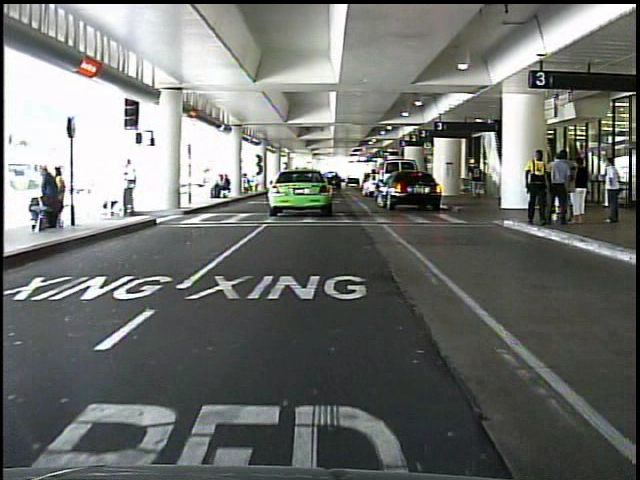person: (517, 147, 554, 235), (546, 145, 572, 233), (600, 153, 631, 225), (114, 158, 147, 224), (570, 153, 588, 231), (465, 158, 491, 206)
